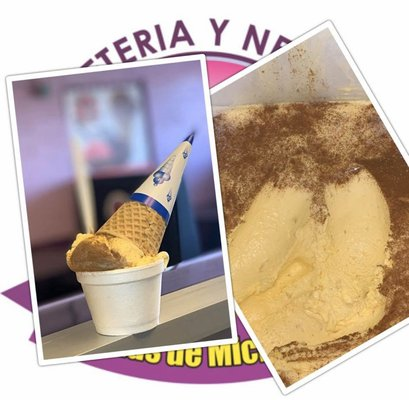pizza: (73, 251, 169, 337)
